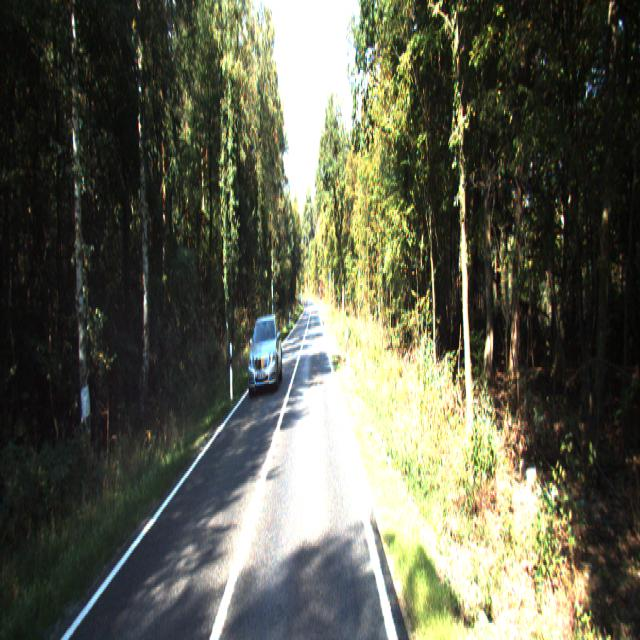Car: (245, 313, 283, 397)
